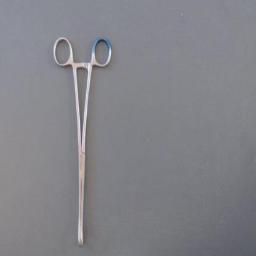Sponge Forceps: (49, 33, 115, 249)
